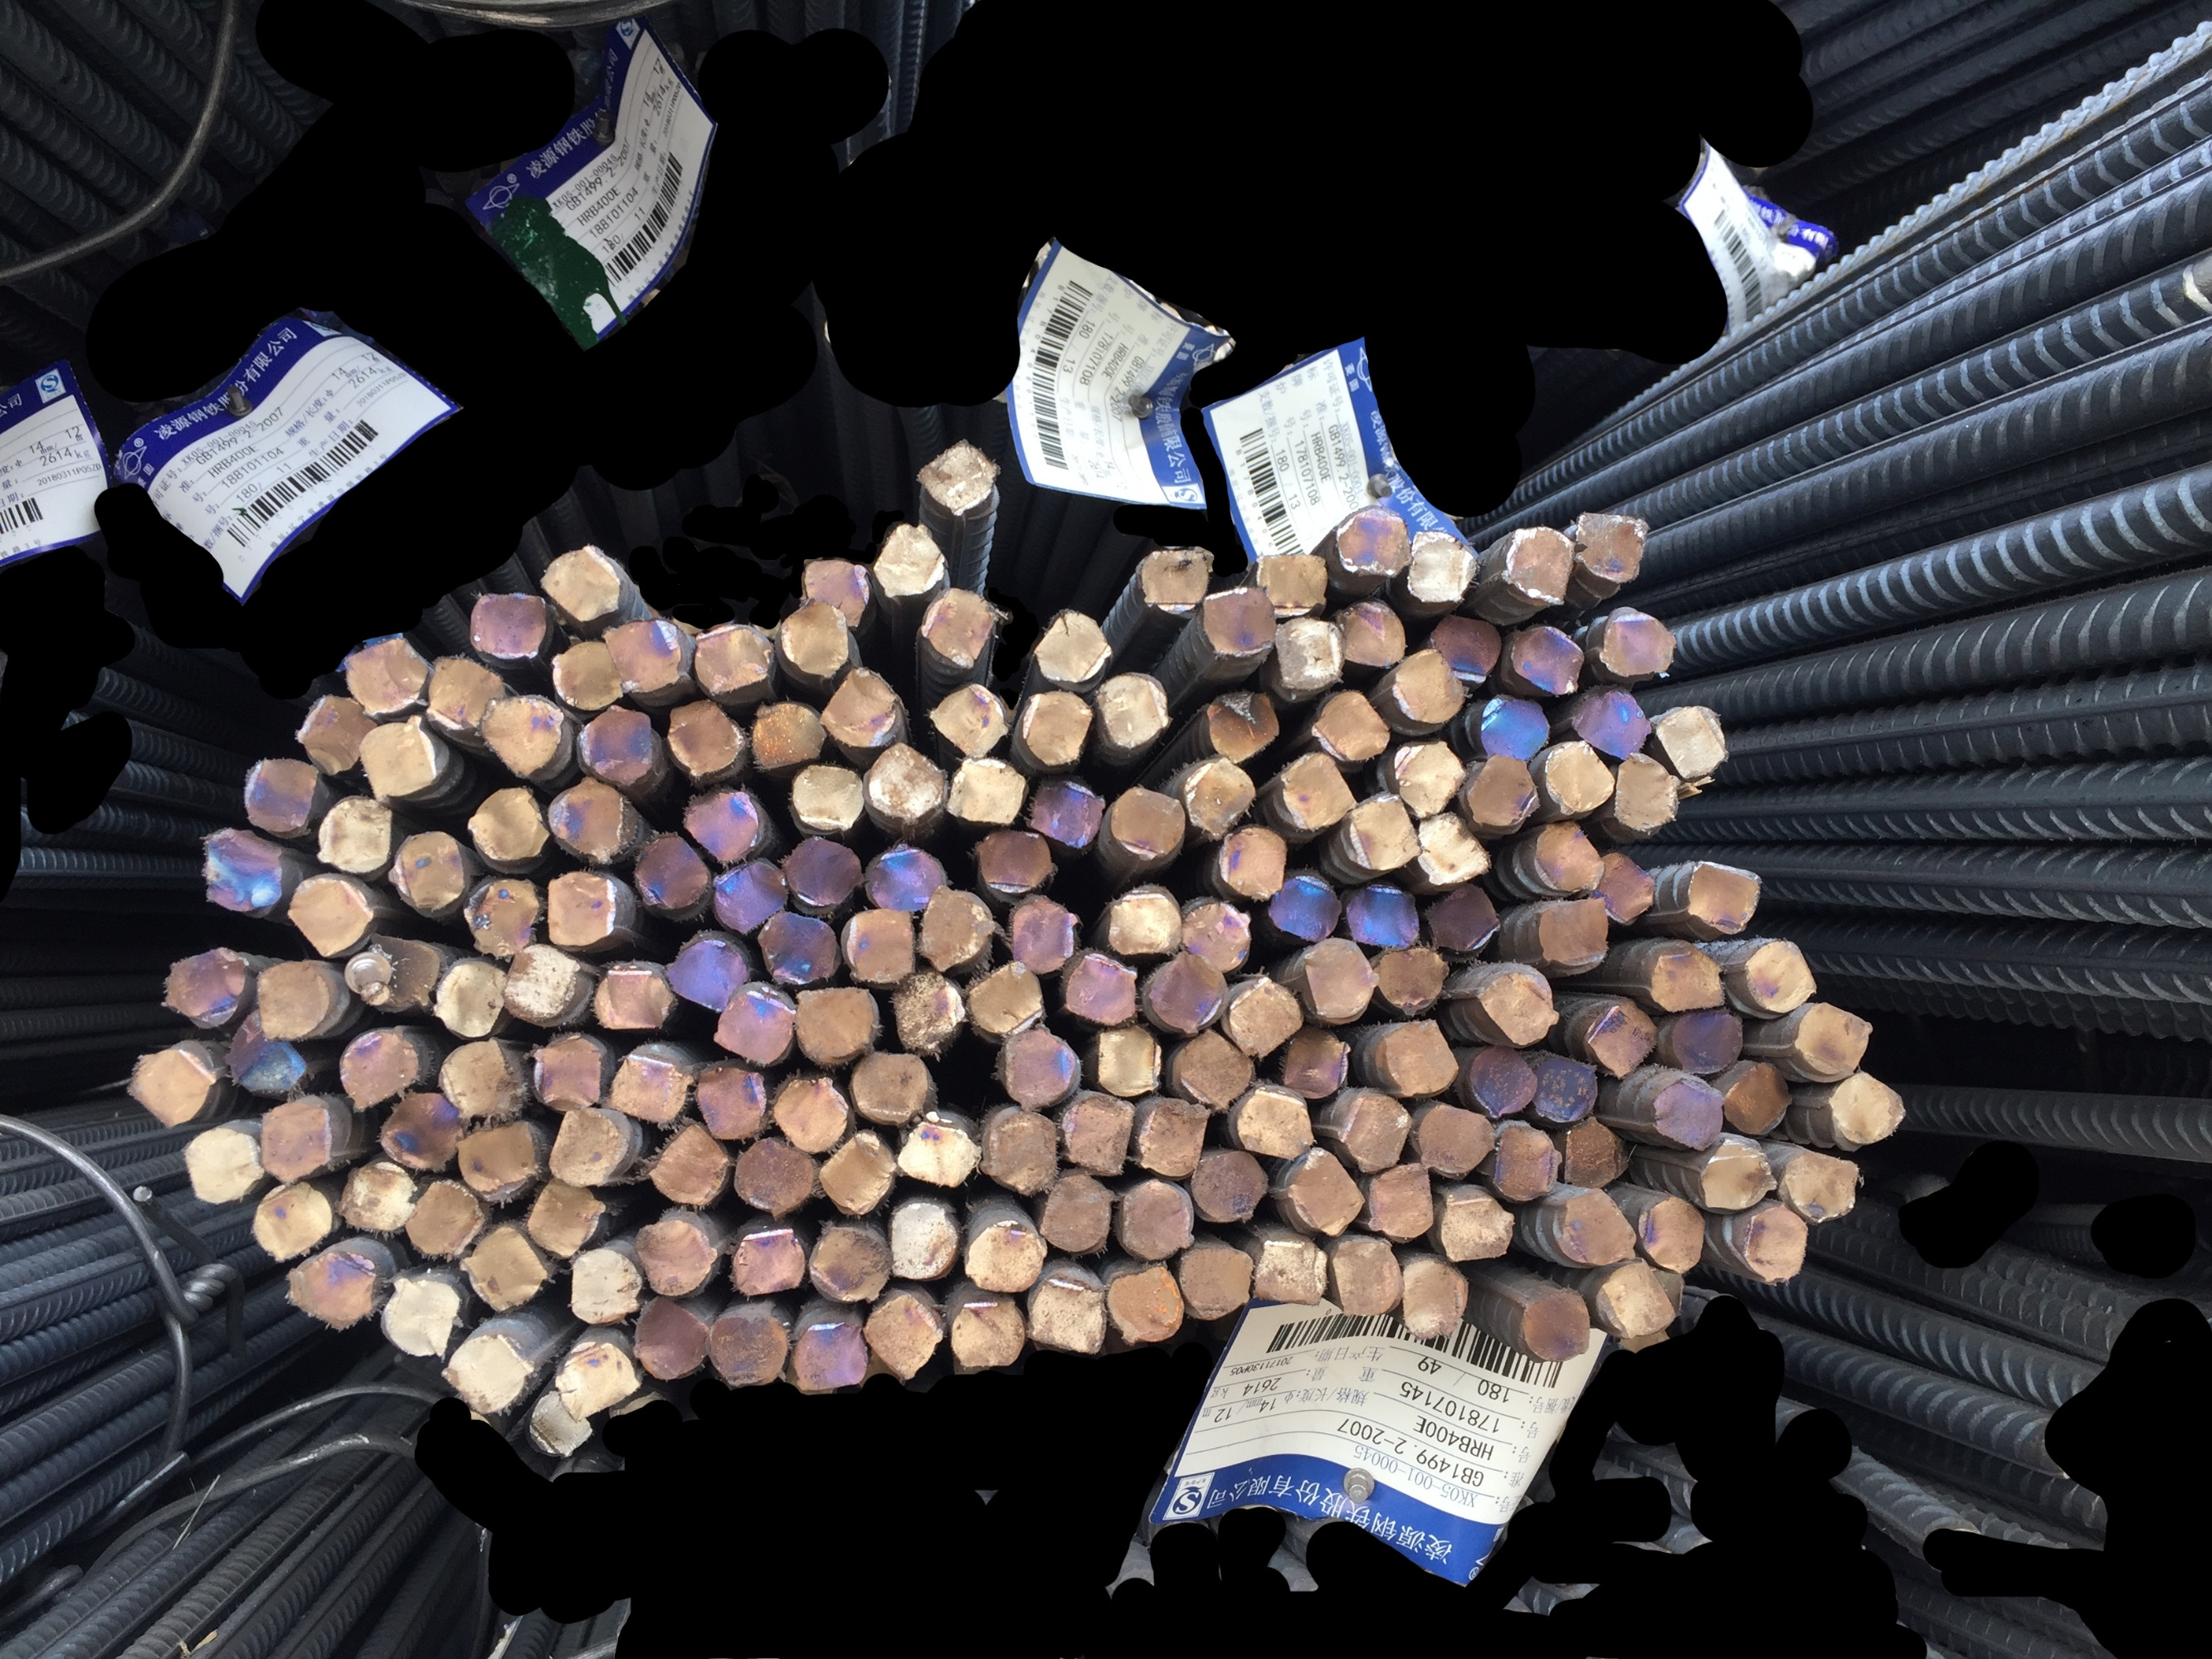rebar: (286, 1248, 378, 1331), (199, 831, 286, 917), (345, 938, 441, 1014), (289, 877, 378, 957), (378, 1279, 462, 1361), (446, 1331, 530, 1413), (1285, 1147, 1363, 1234), (248, 1185, 336, 1262), (382, 1091, 460, 1176), (180, 1124, 261, 1204), (160, 950, 244, 1028), (551, 781, 629, 863), (131, 1051, 214, 1127), (478, 695, 561, 772), (223, 1016, 309, 1091), (342, 634, 427, 709), (920, 436, 1001, 514), (385, 831, 464, 911), (633, 1302, 711, 1382), (668, 936, 748, 1014), (640, 1215, 716, 1297), (631, 829, 708, 911), (261, 1100, 336, 1183), (295, 695, 373, 774), (1030, 1277, 1109, 1356), (863, 1297, 943, 1373), (1794, 1002, 1874, 1079), (840, 906, 917, 986), (342, 1032, 424, 1107), (1152, 955, 1225, 1039), (310, 800, 396, 871), (429, 958, 506, 1037), (361, 716, 438, 795), (577, 708, 654, 786), (718, 985, 795, 1063), (1119, 1182, 1196, 1260), (1227, 978, 1304, 1056), (439, 1037, 514, 1117), (258, 960, 328, 1046), (795, 988, 880, 1058), (471, 784, 546, 863), (464, 1229, 542, 1304), (708, 1314, 786, 1389), (680, 789, 760, 863), (924, 586, 997, 666), (823, 1133, 896, 1213), (500, 945, 577, 1019), (650, 1127, 727, 1202), (814, 1229, 891, 1304), (403, 1183, 481, 1256), (1347, 795, 1421, 873), (1276, 755, 1356, 826), (547, 1112, 629, 1182), (1571, 688, 1652, 758), (458, 1122, 533, 1197), (737, 1140, 814, 1213), (711, 859, 788, 932), (1001, 1033, 1077, 1107), (885, 1202, 959, 1279), (1035, 608, 1112, 681), (1201, 584, 1274, 660), (1562, 1188, 1635, 1265), (542, 552, 622, 622), (1189, 1152, 1269, 1222), (1478, 969, 1558, 1039), (610, 1054, 692, 1122), (662, 704, 744, 772), (1333, 1236, 1400, 1319), (568, 1248, 643, 1321), (826, 673, 901, 746), (1107, 1270, 1182, 1344), (969, 1222, 1046, 1293), (1175, 1032, 1252, 1103), (427, 655, 506, 725), (1137, 1100, 1206, 1178), (1829, 1073, 1907, 1143), (783, 838, 863, 906), (922, 887, 988, 969), (851, 1056, 933, 1122), (777, 603, 851, 676), (1063, 950, 1137, 1023), (1271, 617, 1344, 690), (692, 1066, 767, 1138), (1720, 1061, 1792, 1136), (1389, 739, 1464, 810), (1405, 528, 1476, 603), (526, 1182, 603, 1251), (1177, 1248, 1253, 1317), (1415, 1107, 1492, 1176), (1506, 525, 1576, 601), (758, 911, 837, 979), (1400, 1258, 1468, 1337), (605, 622, 685, 688), (560, 1340, 640, 1406), (898, 1121, 978, 1187), (464, 880, 537, 951), (875, 523, 948, 594), (1096, 673, 1168, 746), (242, 760, 317, 829), (988, 1117, 1058, 1192), (1028, 777, 1103, 847), (1314, 690, 1389, 760), (1302, 945, 1377, 1014), (1337, 1098, 1407, 1173), (1745, 939, 1820, 1009), (1062, 1096, 1130, 1173), (1590, 1000, 1658, 1077), (1412, 814, 1489, 882), (589, 967, 675, 1028), (694, 626, 772, 692), (870, 847, 950, 911), (868, 748, 940, 819), (1529, 1051, 1600, 1122), (551, 640, 624, 709), (535, 1035, 605, 1108), (1006, 897, 1075, 971), (1041, 1175, 1110, 1248), (1021, 692, 1091, 765), (1384, 1023, 1457, 1093), (1255, 1234, 1328, 1304), (1534, 823, 1607, 892), (1339, 509, 1412, 579), (950, 760, 1027, 826), (1107, 892, 1184, 958), (1652, 709, 1729, 775), (1647, 948, 1727, 1011), (546, 873, 615, 945), (892, 976, 962, 1047), (1522, 1290, 1591, 1361), (1598, 1265, 1670, 1335), (1543, 742, 1612, 814), (774, 1079, 847, 1147), (1574, 511, 1647, 579), (340, 1164, 415, 1230), (793, 1324, 868, 1391), (1138, 547, 1215, 612), (1670, 1014, 1748, 1077), (974, 831, 1055, 892), (1637, 1199, 1706, 1269), (1469, 760, 1539, 829), (971, 964, 1042, 1032), (1377, 945, 1449, 1012), (1241, 1089, 1313, 1157), (1612, 758, 1680, 829), (1686, 863, 1759, 929), (1346, 884, 1421, 948), (1745, 1209, 1809, 1284), (931, 688, 1008, 751), (1780, 1152, 1856, 1215), (471, 592, 549, 653), (791, 763, 863, 829), (1112, 788, 1184, 854), (1367, 1168, 1433, 1239), (1494, 1127, 1560, 1199), (1393, 653, 1464, 720), (1333, 603, 1407, 667), (1257, 554, 1333, 615), (1475, 701, 1553, 760), (802, 556, 870, 624), (1182, 899, 1252, 965), (1537, 896, 1611, 958), (1428, 887, 1501, 950), (952, 1300, 1021, 1364), (1091, 1030, 1161, 1094), (1184, 760, 1253, 824), (751, 706, 824, 767), (1206, 694, 1279, 755), (1267, 878, 1342, 938), (1440, 1197, 1515, 1256), (1469, 1046, 1534, 1114), (732, 1229, 802, 1291), (1651, 1084, 1724, 1143), (1600, 615, 1673, 674), (1597, 847, 1654, 922), (1511, 627, 1581, 688), (1696, 1152, 1771, 1208), (1224, 828, 1286, 894), (1562, 1115, 1618, 1188), (1285, 1032, 1351, 1091), (1435, 619, 1501, 673), (530, 1396, 593, 1452)
